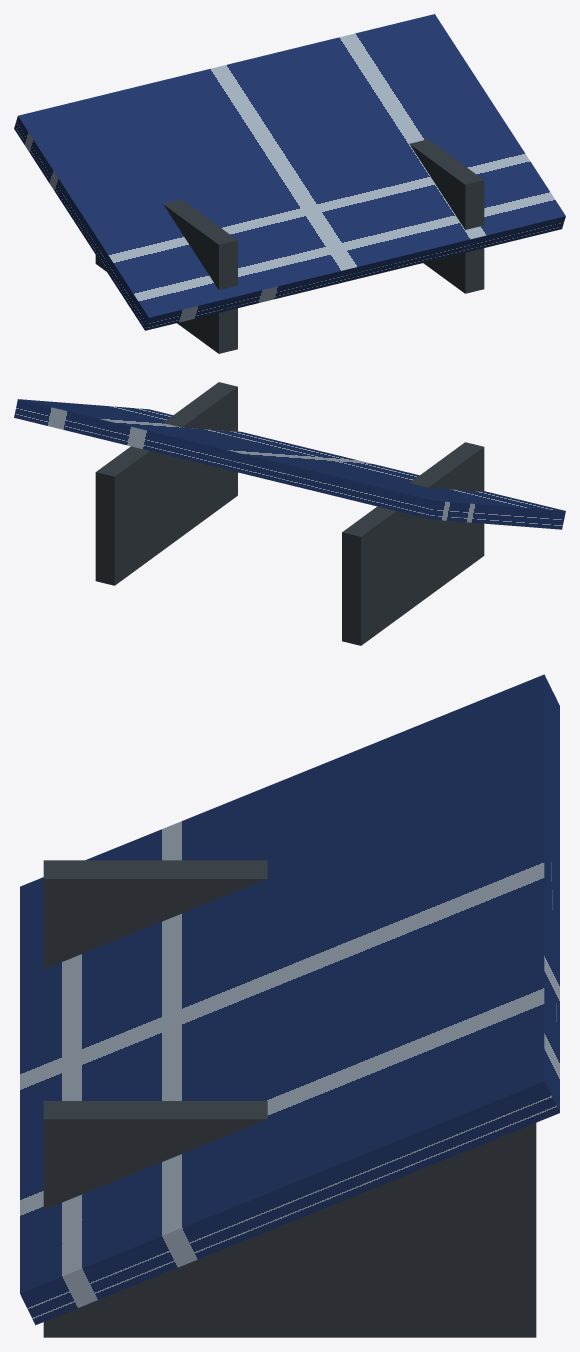
File: rooftop-solar-lod1.glb
The picture shows the model from 3 angles, top to bottom: view 1: azimuth 30°, elevation 25°; view 2: azimuth 150°, elevation 25°; view 3: azimuth 270°, elevation 25°; orthographic projection. The views are drawn at different scales.
Visible parts, largest first — view 1: rooftop-solar-lod1; view 2: rooftop-solar-lod1; view 3: rooftop-solar-lod1.
Boxes of the visible parts, <box> form: rooftop-solar-lod1: <box>14,14,565,353</box>; rooftop-solar-lod1: <box>14,382,565,645</box>; rooftop-solar-lod1: <box>20,674,559,1337</box>.
Bounding box in the file's own units: 1.76 × 0.666 × 0.9873.
1 material, 1 textured.
